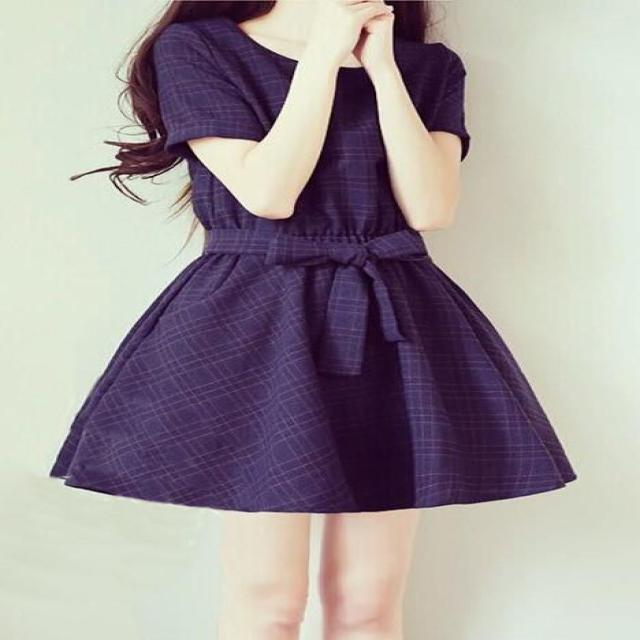short sleeve dress: (51, 22, 578, 513)
